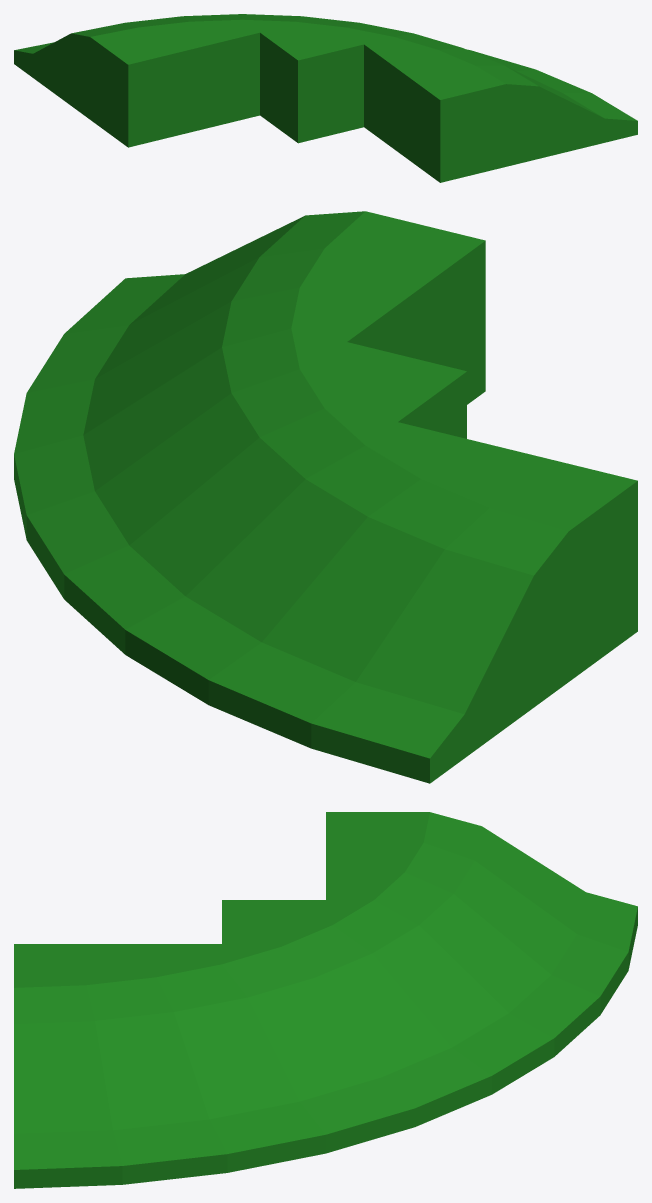
Rendered from grass_hill_corner_outer_x3.obj.
The picture shows the model from 3 angles, top to bottom: view 1: azimuth 30°, elevation 25°; view 2: azimuth 150°, elevation 25°; view 3: azimuth 270°, elevation 25°; orthographic projection. The views are drawn at different scales.
Visible parts, largest first — view 1: grass_hill_corner_outer_x3_Circle.003; view 2: grass_hill_corner_outer_x3_Circle.003; view 3: grass_hill_corner_outer_x3_Circle.003.
Part boxes in pixels (x1=…): grass_hill_corner_outer_x3_Circle.003: x1=14, y1=14, x2=637, y2=182; grass_hill_corner_outer_x3_Circle.003: x1=14, y1=211, x2=637, y2=783; grass_hill_corner_outer_x3_Circle.003: x1=14, y1=812, x2=637, y2=1188.
Size of the model in its own units: 6 by 1.2 by 6.
